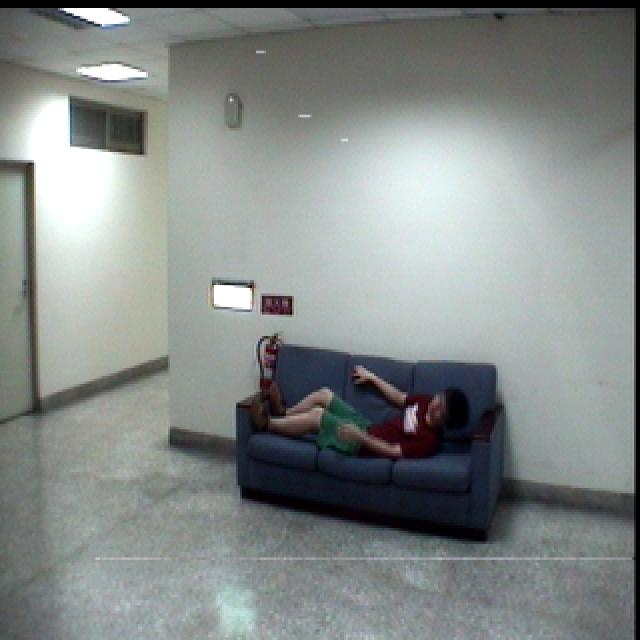lie: (246, 360, 464, 462)
